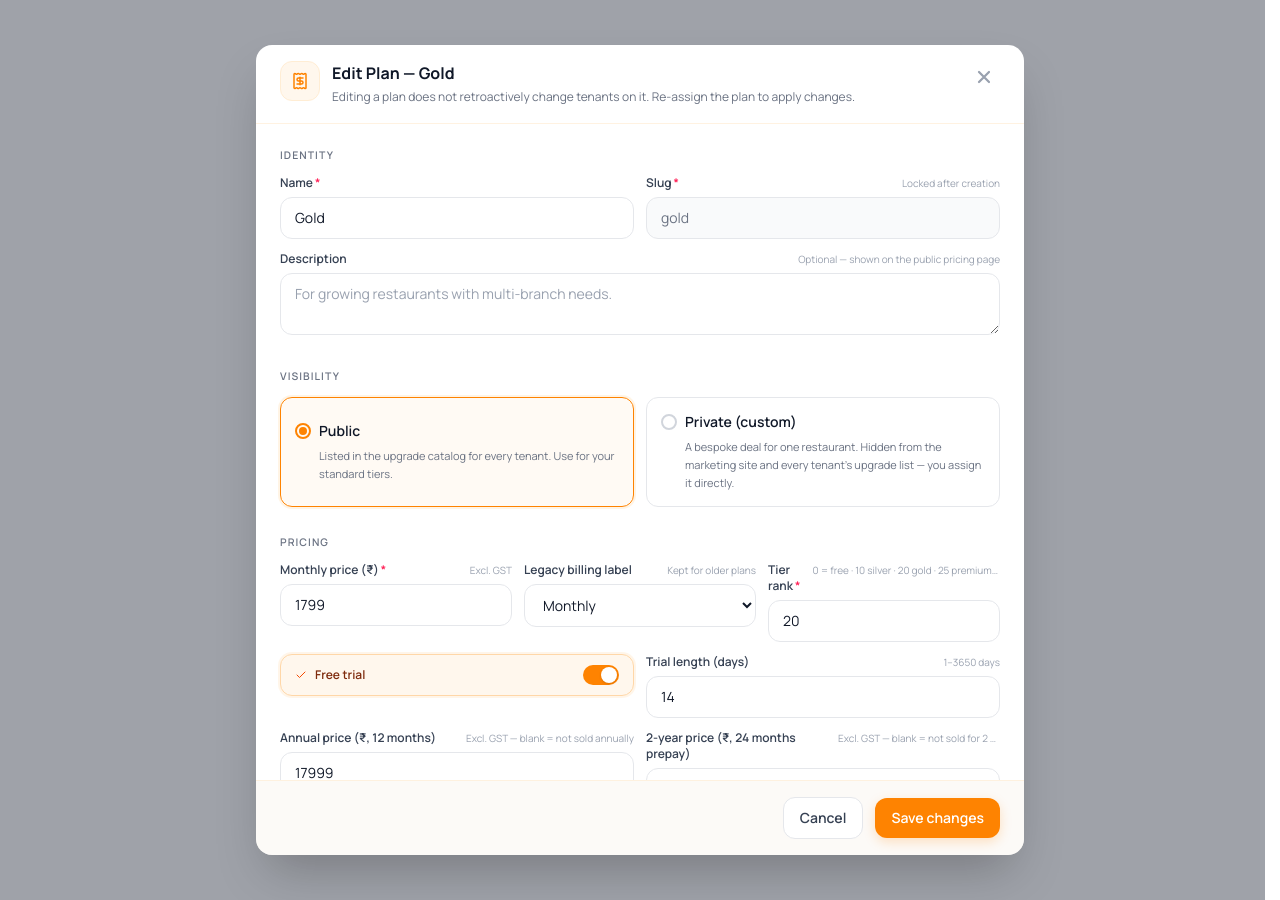
Test: PlanFormModal cycle prices › 2-year must be less than 2 x annual - blocks the save
Earlier steps of the test are not shown.
Click the button "Save changes": click(938, 818) [875, 798, 1000, 838]
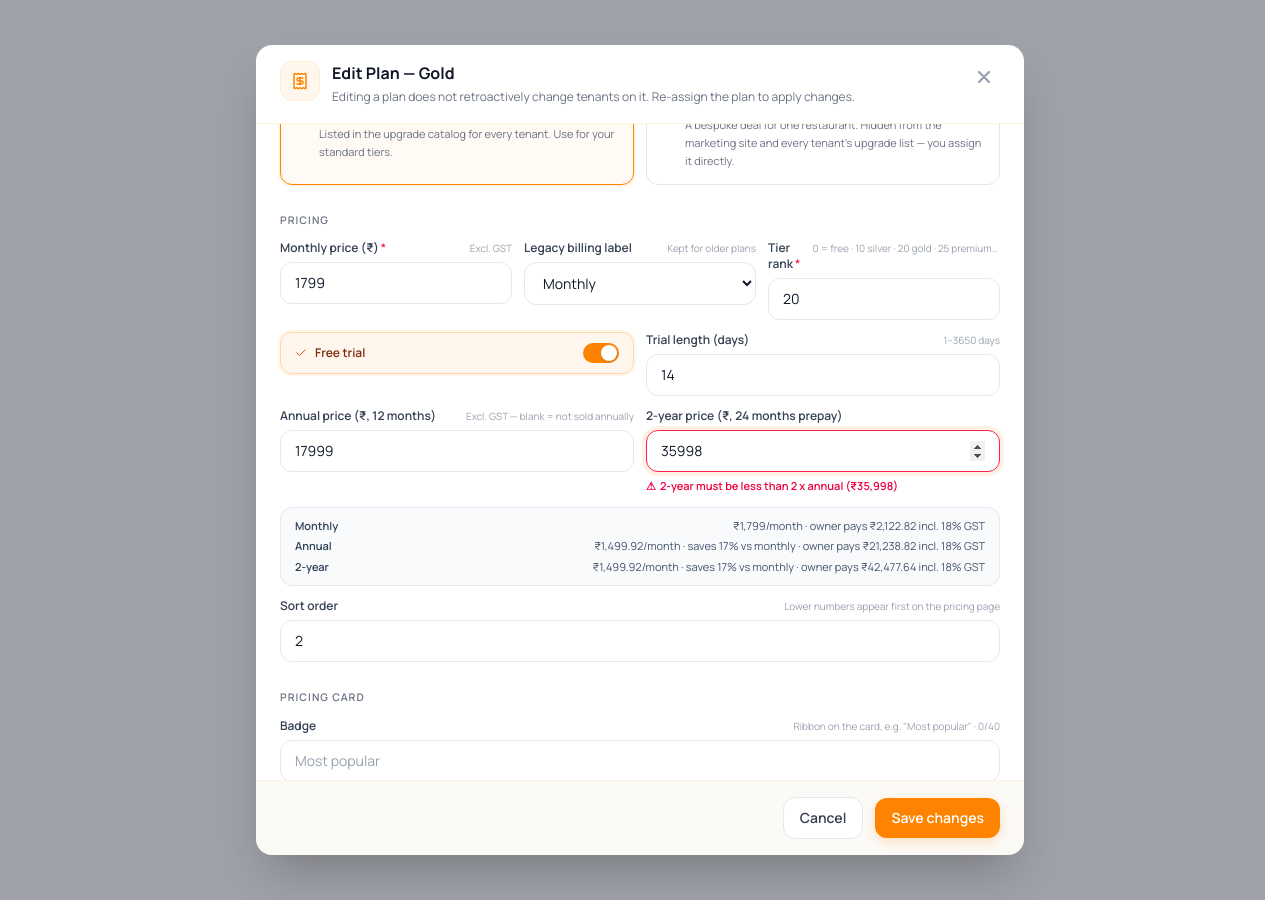
Result: the text "⚠ 2-year must be less than 2 x annual (₹35,998)" is shown at [646, 478, 898, 493]
